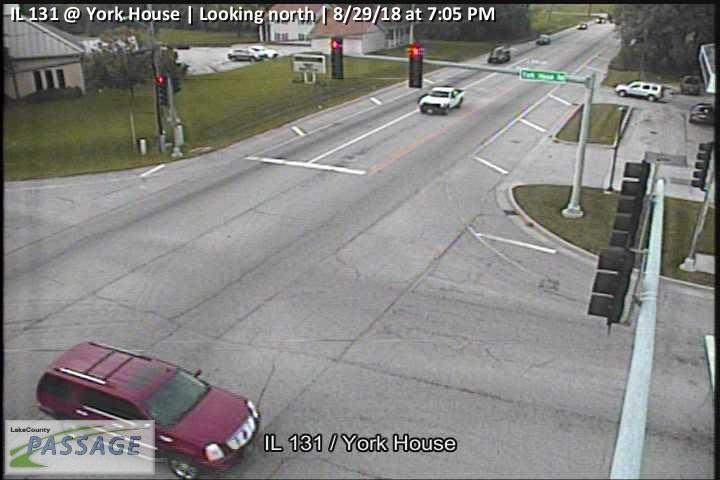SUV: (35, 338, 260, 480), (612, 79, 666, 102)
Sedan: (688, 103, 716, 124), (679, 74, 701, 96), (228, 47, 261, 61), (248, 44, 279, 58)
Truck: (416, 84, 466, 114)
